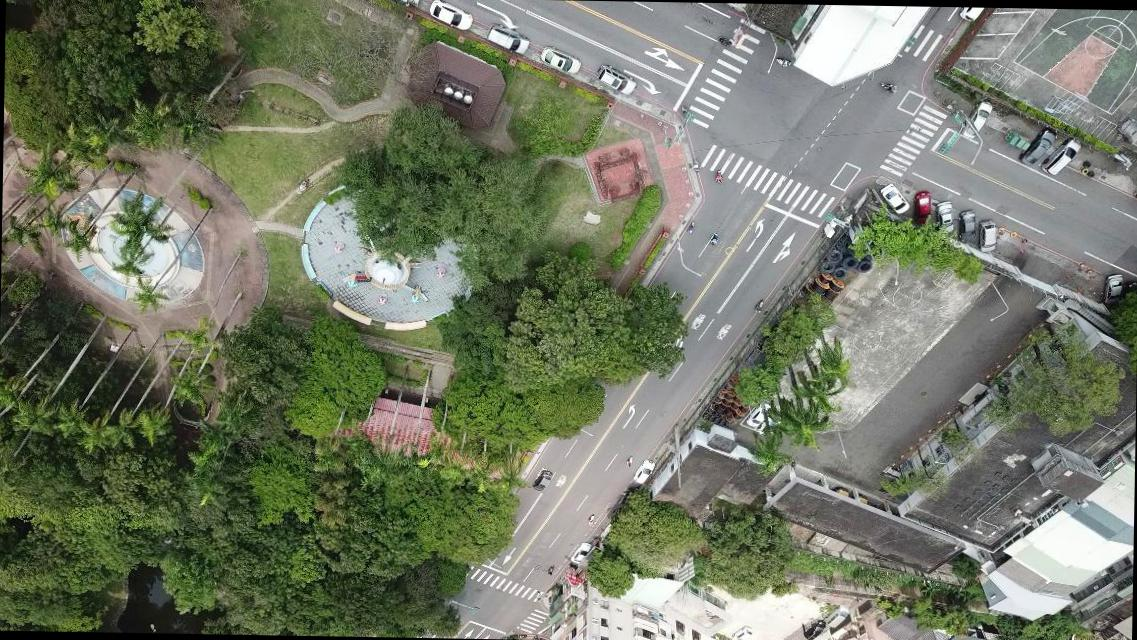vehicle: (1040, 136, 1082, 175), (1018, 126, 1056, 168), (428, 0, 475, 32), (486, 22, 530, 54), (596, 64, 637, 96), (961, 100, 993, 140), (540, 44, 582, 74), (879, 182, 910, 215), (912, 189, 932, 226), (956, 209, 977, 244), (934, 200, 955, 234), (978, 220, 998, 253), (1103, 272, 1123, 304), (824, 604, 849, 628), (634, 460, 654, 484), (958, 7, 986, 24), (532, 469, 552, 492), (571, 542, 591, 564), (804, 620, 824, 640), (729, 624, 753, 639)
